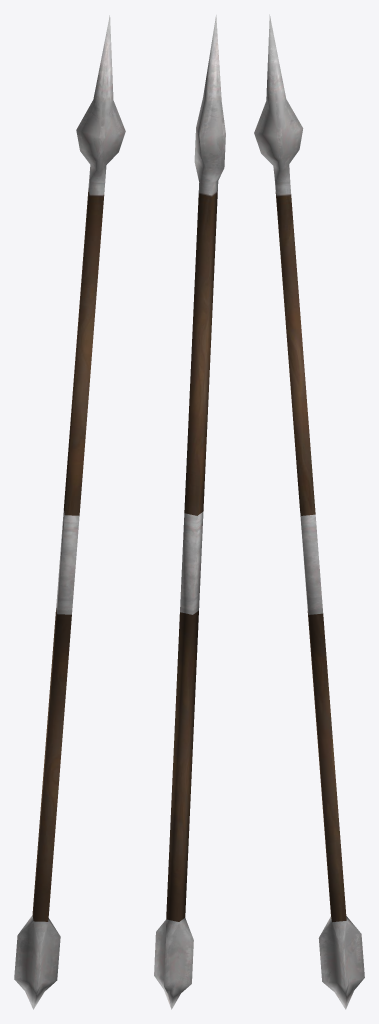
File: weapon-ironweapons.glb
3 views of the same model, side by side, from view 1: azimuth 90°, elevation 25°; view 2: azimuth 150°, elevation 25°; view 3: azimuth 270°, elevation 25° (orthographic). The views are drawn at different scales.
Bounding box in the file's own units: 0.1305 × 3.12 × 0.3157.
1 material, 1 textured.
